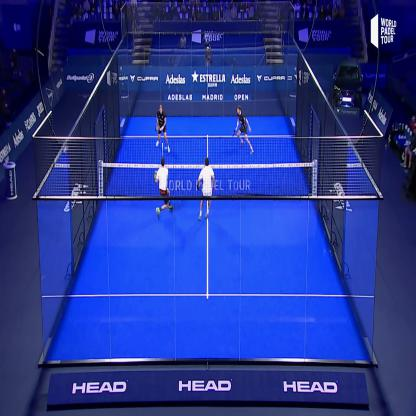ball: (162, 143, 169, 157)
